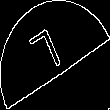L_SE: (35, 25, 75, 85)
